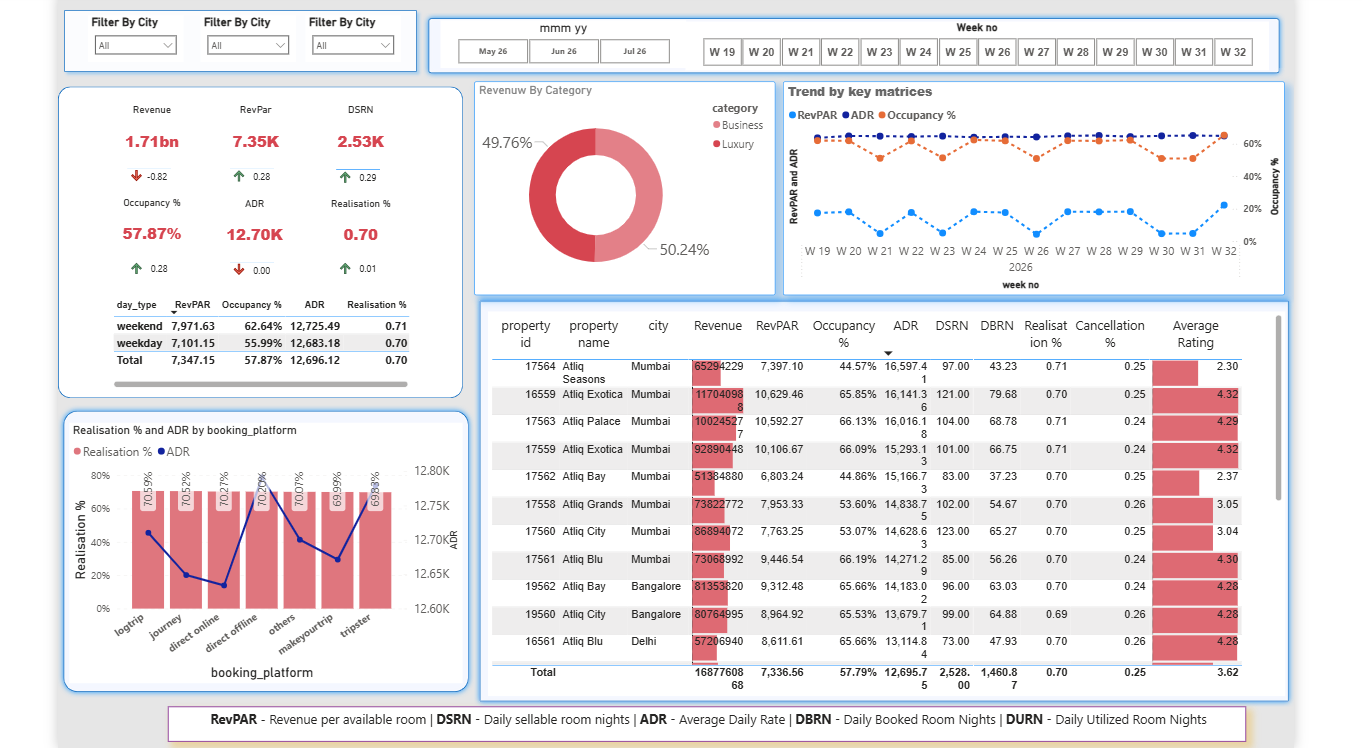

Layout of this report page (visuals, bound fields, positions):
{"tool":"powerbi","page":{"name":"Home","canvas":[1800,1100],"ordinal":0},"visuals":[{"type":"shape","box":[531.5,26.5,1255,96],"z":0},{"type":"shape","box":[606,438.7,1193.7,599.3],"z":1000},{"type":"shape","box":[0,599.3,606,425.5],"z":2000},{"type":"shape","box":[0,14.9,531.5,107.6],"z":3000},{"type":"shape","box":[0,134.1,589.4,453.6],"z":4000},{"type":"tableEx","fields":{"Values":["dim_hotels.property_id","dim_hotels.property_name","dim_hotels.city","key_measures_table.Revenue","key_measures_table.RevPAR","key_measures_table.OccupancyPercentage","key_measures_table.ADR","key_measures_table.DSRN","key_measures_table.DBRN","key_measures_table.Realisation %","key_measures_table.Cancellation percentage","key_measures_table.Average Rating"]},"box":[625.8,461.9,1160.6,559.6],"z":5000},{"type":"slicer","title":"Filter By City","fields":{"Values":["dim_hotels.city"]},"box":[43,30.2,139.1,67.9],"z":6000},{"type":"slicer","title":"Filter By City","fields":{"Values":["dim_rooms.room_class"]},"box":[207,30.2,139.1,67.9],"z":7000},{"type":"slicer","title":"mmm yy","fields":{"Values":["dim_datas.mmm yy"]},"box":[556.3,38.1,357.6,69.5],"z":8000},{"type":"slicer","title":"Week no","fields":{"Values":["dim_datas.week no"]},"box":[913.9,39.7,849.3,71.2],"z":9000},{"type":"donutChart","title":"Revenuw By Category","fields":{"Category":["dim_hotels.category"],"Y":["key_measures_table.OccupancyPercentage"]},"box":[606,127.5,438.7,311.3],"z":10000},{"type":"tableEx","fields":{"Values":["key_measures_table.Revenue WoW change %"]},"box":[94.1,225.5,84.4,56.3],"z":11000},{"type":"tableEx","fields":{"Values":["key_measures_table.ADR WoW change %"]},"box":[244.4,362.3,84.4,56.3],"z":12000},{"type":"tableEx","fields":{"Values":["key_measures_table.DSRN WoW change %"]},"box":[397.7,226.8,84.4,56.3],"z":13000},{"type":"lineChart","title":"Trend by key matrices","fields":{"Y":["key_measures_table.RevPAR","key_measures_table.ADR"],"Y2":["key_measures_table.OccupancyPercentage"],"Category":["dim_datas.mmm yy.Variation.Date Hierarchy.Year","dim_datas.week no"]},"box":[1056.3,127.5,730.1,311.3],"z":14000},{"type":"lineStackedColumnComboChart","fields":{"Category":["fact_bookings.booking_platform"],"Y":["key_measures_table.Realisation %"],"Y2":["key_measures_table.ADR"]},"box":[16.6,624.2,572.9,379.1],"z":15000},{"type":"tableEx","fields":{"Values":["dim_datas.day_type","key_measures_table.RevPAR","key_measures_table.OccupancyPercentage","key_measures_table.ADR","key_measures_table.Realisation %"]},"box":[74.5,438.7,442.1,139.1],"z":16000},{"type":"tableEx","fields":{"Values":["key_measures_table.Revpar WoW change %"]},"box":[243.7,225.2,84.4,56.3],"z":17000},{"type":"tableEx","fields":{"Values":["key_measures_table.Occupancy WoW change %"]},"box":[94.1,361.2,84.4,56.3],"z":18000},{"type":"tableEx","fields":{"Values":["key_measures_table.Realisation WoW change %"]},"box":[397.7,360.9,84.4,56.3],"z":19000},{"type":"slicer","title":"Filter By City","fields":{"Values":["dim_hotels.city"]},"box":[360.9,30.2,139.1,67.9],"z":20000},{"type":"textbox","box":[160.6,1038.1,1569.6,51.3],"z":21000},{"type":"card","title":"Revenue","fields":{"Values":["key_measures_table.Revenue"]},"box":[67.7,159.7,139.1,94.4],"z":22000},{"type":"card","title":"RevPar","fields":{"Values":["key_measures_table.RevPAR"]},"box":[218.9,160.6,139.1,94.4],"z":23000},{"type":"card","title":"DSRN","fields":{"Values":["key_measures_table.DSRN"]},"box":[371.2,160.6,139.1,94.4],"z":24000},{"type":"card","title":"Occupancy %","fields":{"Values":["key_measures_table.OccupancyPercentage"]},"box":[67.7,295.5,139.1,94.4],"z":25000},{"type":"card","title":"ADR","fields":{"Values":["key_measures_table.ADR"]},"box":[216.2,296,139.1,94.4],"z":26000},{"type":"card","title":"Realisation %","fields":{"Values":["key_measures_table.Realisation %"]},"box":[371.2,296.4,139.1,94.4],"z":27000}]}

Visuals, with their boxes on the page's 1800x1100 design canvas (x1, y1, x2, y2). These are canvas units, not pixel positions in the 1362x748 screenshot, which may show the page scaled, cropped or inside an application window:
shape: x1=532 y1=26 x2=1786 y2=122
shape: x1=606 y1=439 x2=1800 y2=1038
shape: x1=0 y1=599 x2=606 y2=1025
shape: x1=0 y1=15 x2=532 y2=122
shape: x1=0 y1=134 x2=589 y2=588
tableEx - dim_hotels.property_id x dim_hotels.property_name: x1=626 y1=462 x2=1786 y2=1022
"Filter By City" slicer: x1=43 y1=30 x2=182 y2=98
"Filter By City" slicer: x1=207 y1=30 x2=346 y2=98
"mmm yy" slicer: x1=556 y1=38 x2=914 y2=108
"Week no" slicer: x1=914 y1=40 x2=1763 y2=111
"Revenuw By Category" donutChart: x1=606 y1=128 x2=1045 y2=439
tableEx - key_measures_table.Revenue WoW change %: x1=94 y1=226 x2=178 y2=282
tableEx - key_measures_table.ADR WoW change %: x1=244 y1=362 x2=329 y2=419
tableEx - key_measures_table.DSRN WoW change %: x1=398 y1=227 x2=482 y2=283
"Trend by key matrices" lineChart: x1=1056 y1=128 x2=1786 y2=439
lineStackedColumnComboChart - fact_bookings.booking_platform x key_measures_table.Realisation %: x1=17 y1=624 x2=590 y2=1003
tableEx - dim_datas.day_type x key_measures_table.RevPAR: x1=74 y1=439 x2=517 y2=578
tableEx - key_measures_table.Revpar WoW change %: x1=244 y1=225 x2=328 y2=282
tableEx - key_measures_table.Occupancy WoW change %: x1=94 y1=361 x2=178 y2=418
tableEx - key_measures_table.Realisation WoW change %: x1=398 y1=361 x2=482 y2=417
"Filter By City" slicer: x1=361 y1=30 x2=500 y2=98
textbox: x1=161 y1=1038 x2=1730 y2=1089
"Revenue" card: x1=68 y1=160 x2=207 y2=254
"RevPar" card: x1=219 y1=161 x2=358 y2=255
"DSRN" card: x1=371 y1=161 x2=510 y2=255
"Occupancy %" card: x1=68 y1=296 x2=207 y2=390
"ADR" card: x1=216 y1=296 x2=355 y2=390
"Realisation %" card: x1=371 y1=296 x2=510 y2=391
